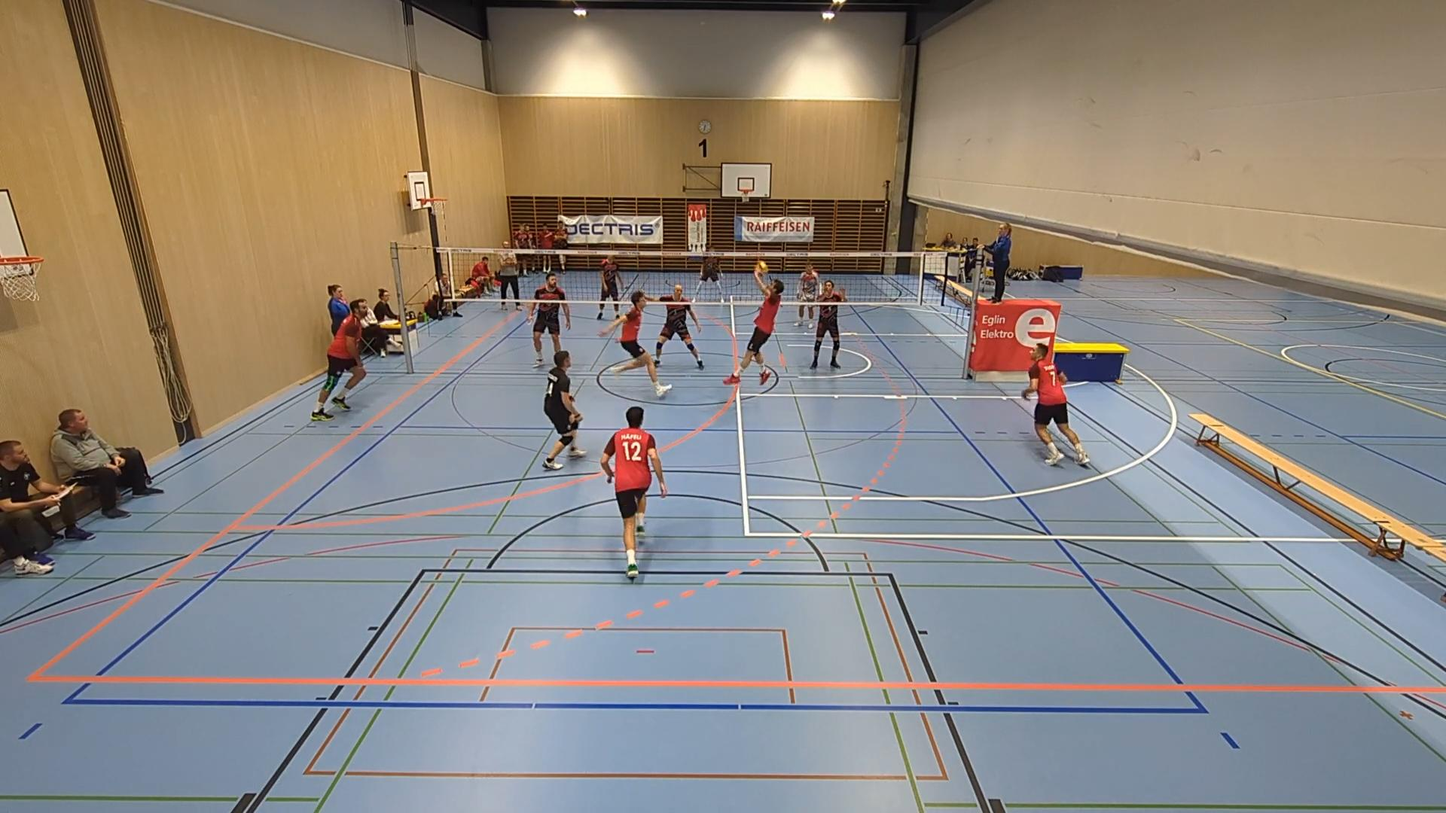Player: (600, 406, 667, 578), (1023, 344, 1089, 464), (599, 291, 671, 397), (310, 299, 368, 421), (542, 350, 586, 470), (528, 273, 571, 367), (655, 285, 703, 368), (810, 280, 846, 368), (795, 263, 819, 326), (596, 257, 619, 319), (695, 256, 721, 300)
Set: (729, 265, 782, 388)
ball: (754, 259, 768, 274)
